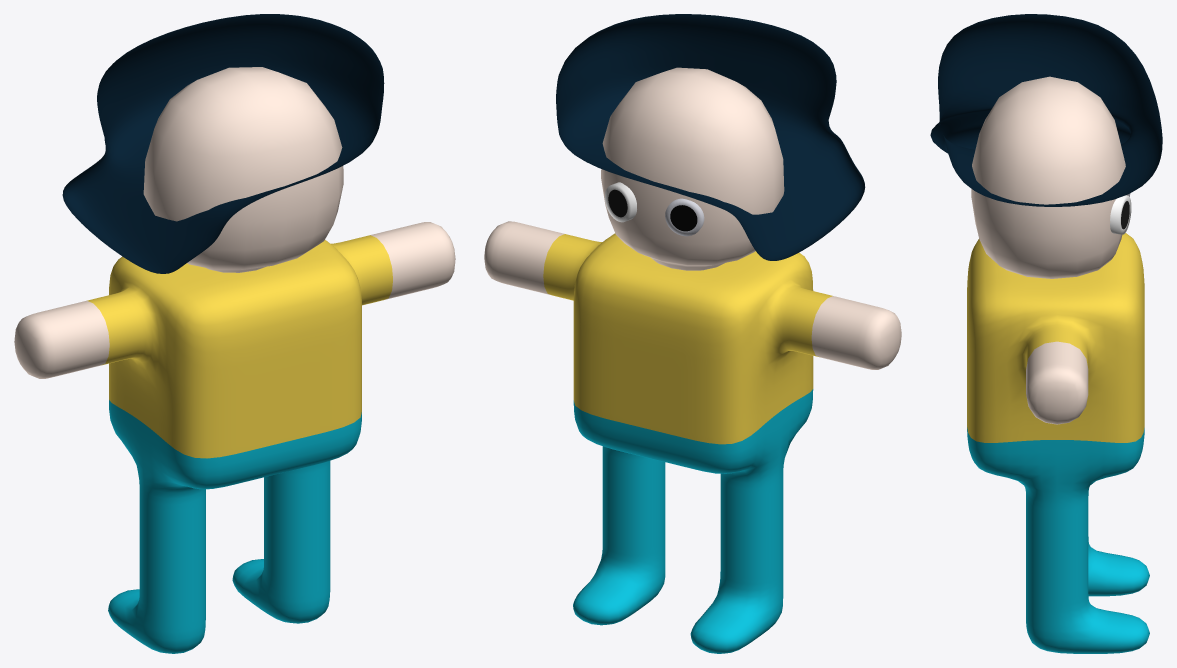
Rendered from udin_man1.glb.
3 renders of one model, left to right at view 1: azimuth 30°, elevation 25°; view 2: azimuth 150°, elevation 25°; view 3: azimuth 270°, elevation 25°, orthographic. The views are drawn at different scales.
Parts seen in each view (by area): view 1: Cube, Plane.001; view 2: Cube, Plane.001, Cylinder.001, Cylinder.002; view 3: Cube, Plane.001, Cylinder.002.
Part boxes in pixels (x1,y1,x2,y2): Cube: (14, 67, 455, 653); Plane.001: (62, 14, 384, 273); Cube: (484, 67, 901, 653); Plane.001: (556, 14, 865, 260); Cylinder.001: (665, 198, 704, 236); Cylinder.002: (604, 182, 636, 222); Cube: (967, 76, 1149, 653); Plane.001: (930, 14, 1162, 206); Cylinder.002: (1110, 195, 1131, 234).
Size of the model in its own units: 6.05 by 8.23 by 3.02.
